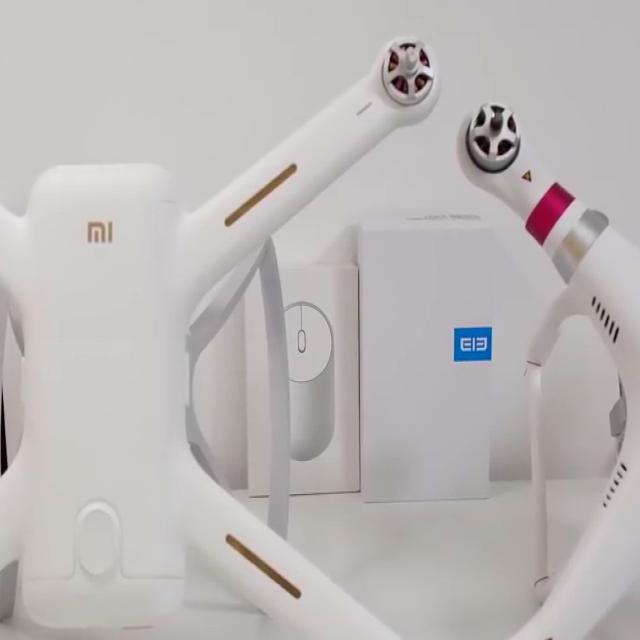drone: (0, 25, 465, 640), (453, 78, 640, 640)
